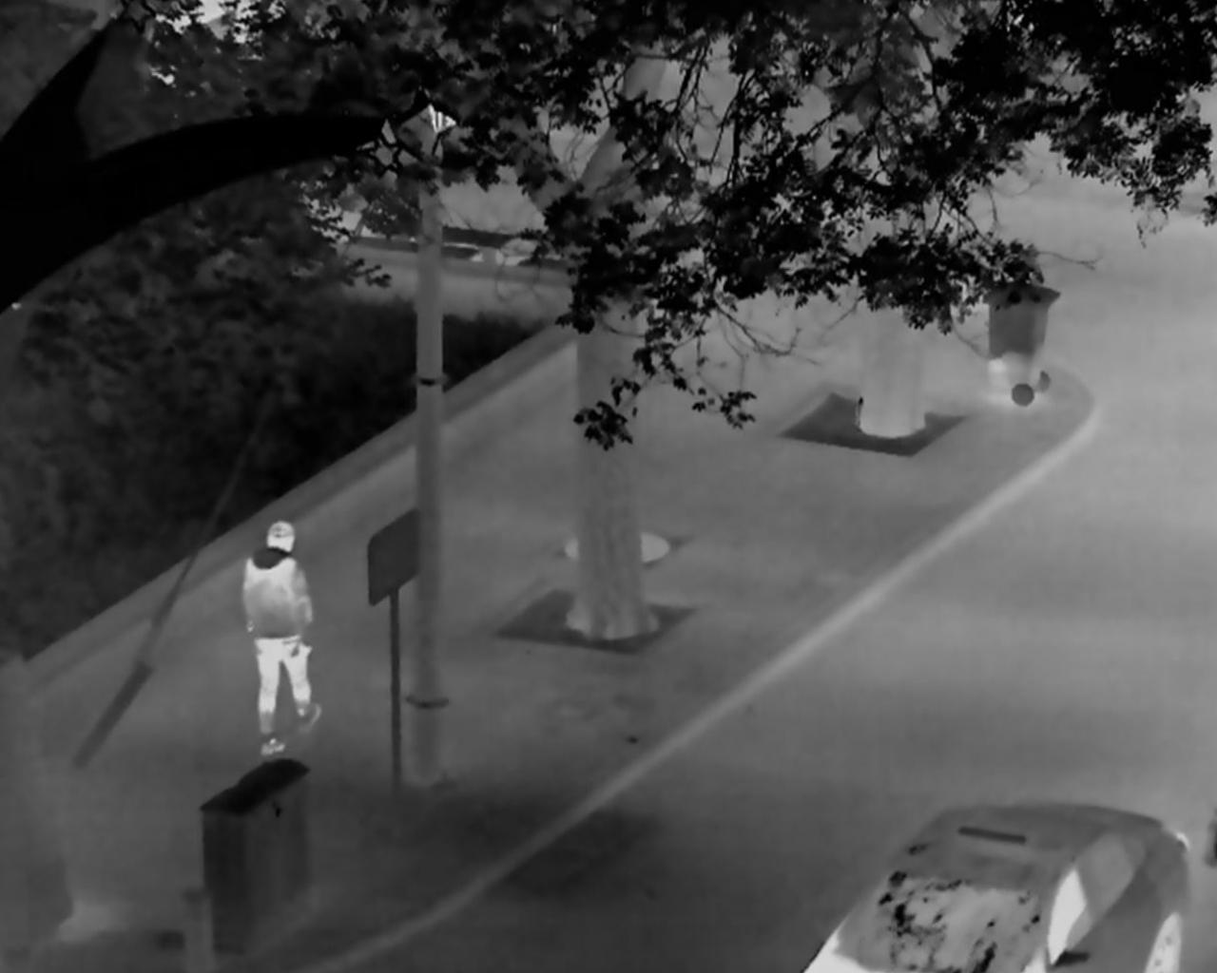person: (241, 522, 323, 757)
